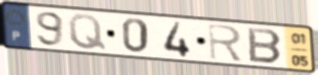0: (121, 17, 151, 55)
4: (161, 19, 193, 59)
9: (34, 10, 66, 47)
B: (246, 26, 284, 66)
Q: (67, 12, 109, 52)
R: (206, 22, 246, 63)
